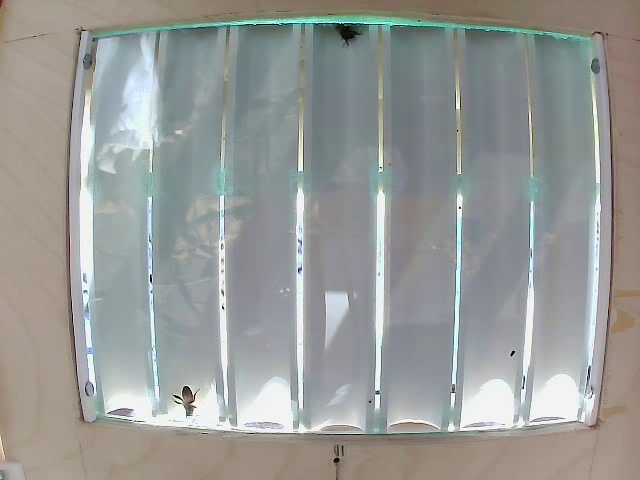bee: (164, 380, 210, 422)
